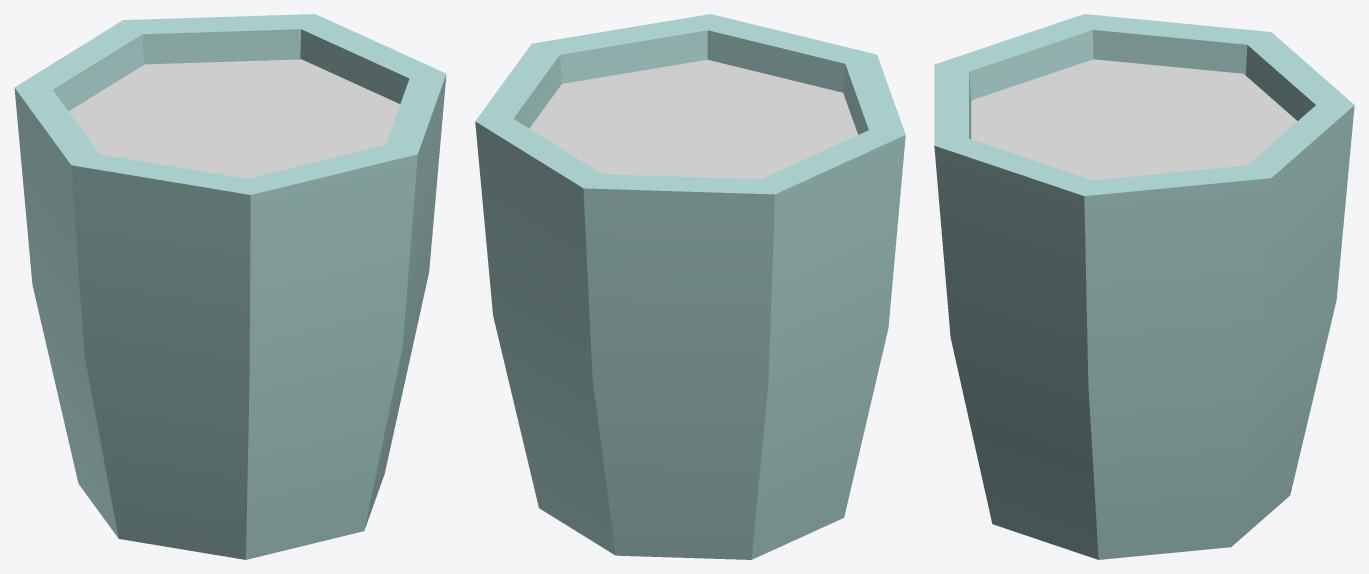
Rendered from VASO.fbx.
3 views of the same model, side by side, from view 1: azimuth 30°, elevation 25°; view 2: azimuth 150°, elevation 25°; view 3: azimuth 270°, elevation 25° (orthographic).
Visible parts, largest first — view 1: Vaso1, Vaso1.001; view 2: Vaso1, Vaso1.001; view 3: Vaso1, Vaso1.001.
Boxes of the visible parts, x1,y1,x2,y2 form: Vaso1: [14, 14, 446, 559]; Vaso1.001: [68, 59, 399, 178]; Vaso1: [475, 14, 905, 559]; Vaso1.001: [529, 59, 857, 179]; Vaso1: [934, 14, 1354, 559]; Vaso1.001: [971, 59, 1297, 180].
Bounding box in the file's own units: 15.27 × 15.26 × 14.89.
